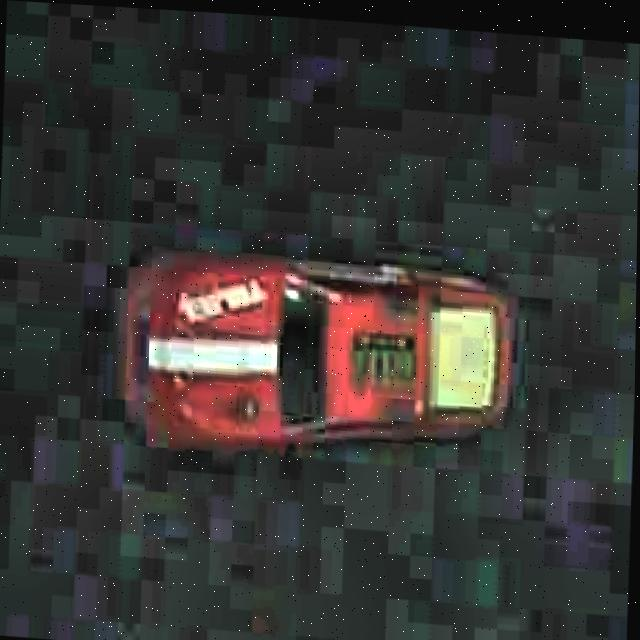car: (103, 235, 526, 473)
